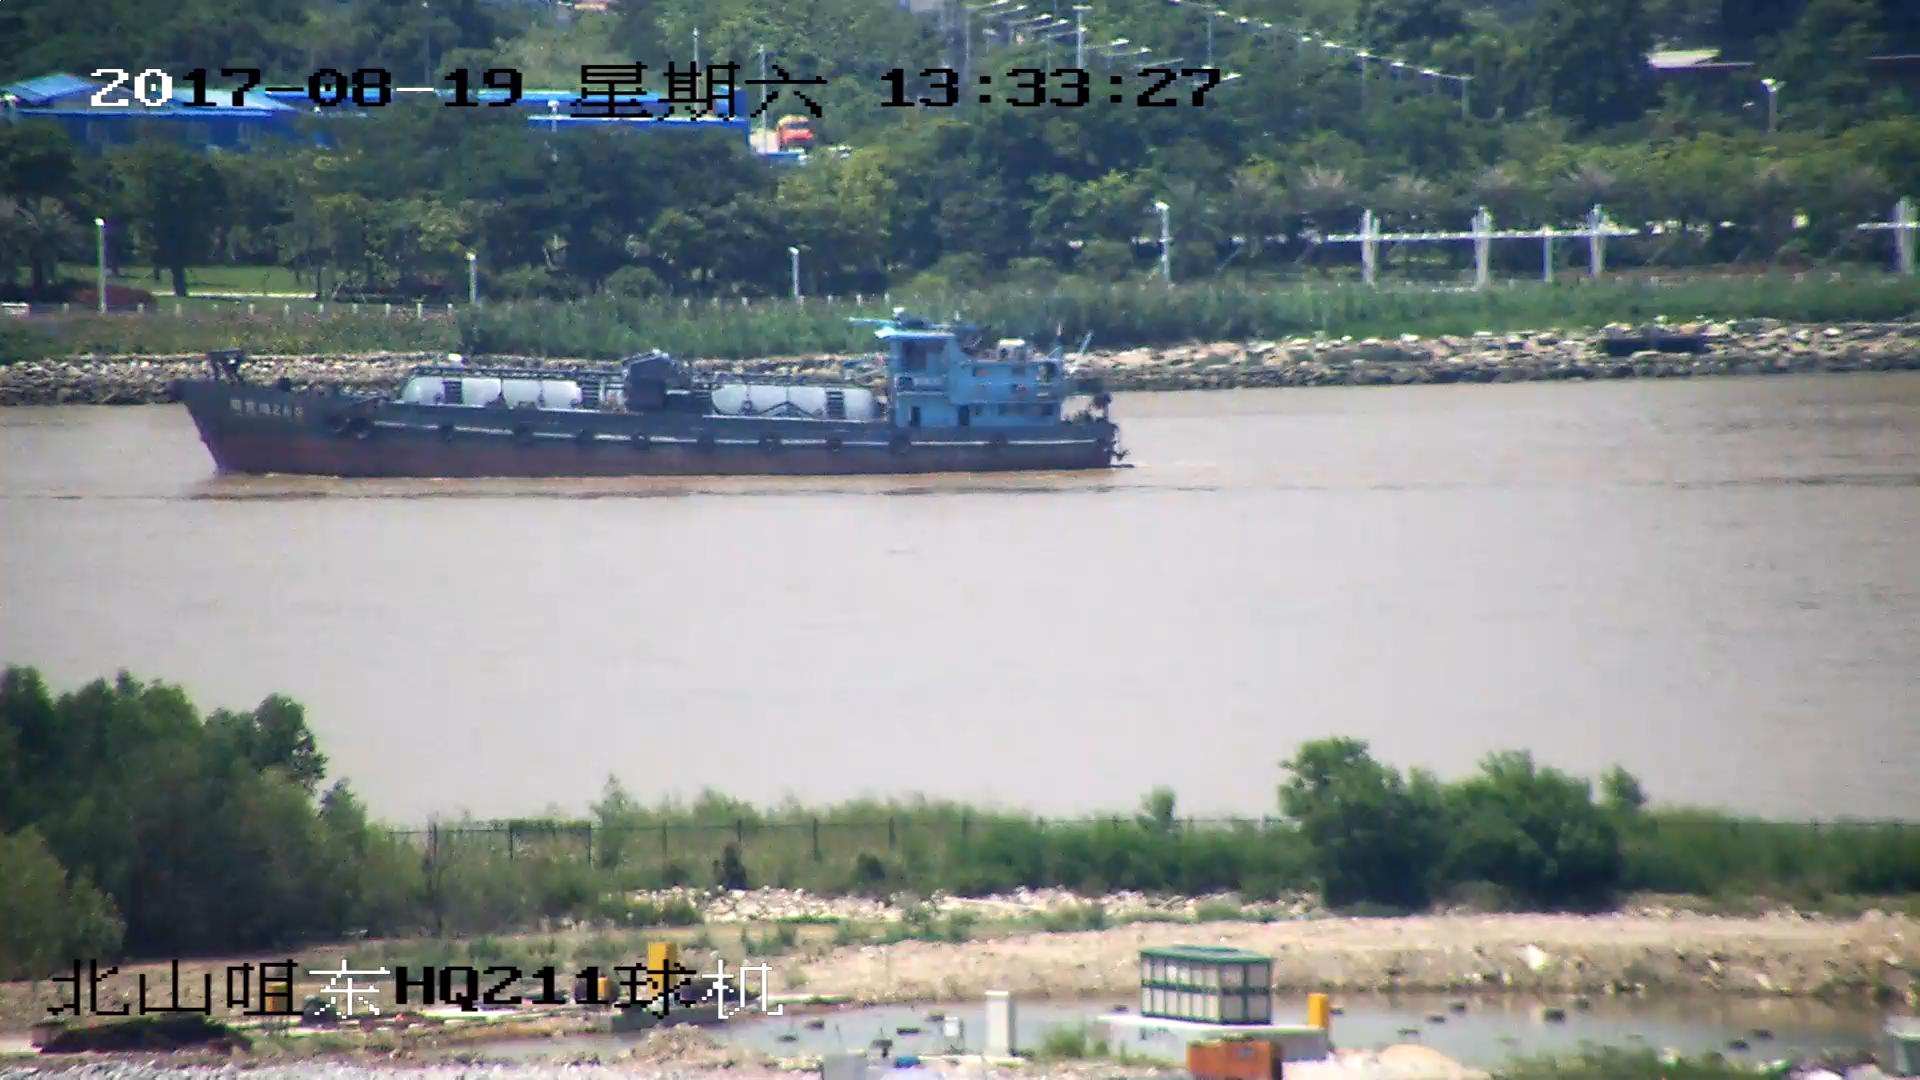bulk cargo carrier: (170, 316, 1133, 473)
